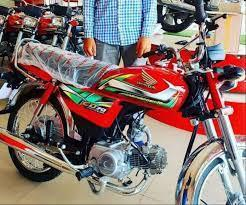bike: (1, 7, 246, 205)
